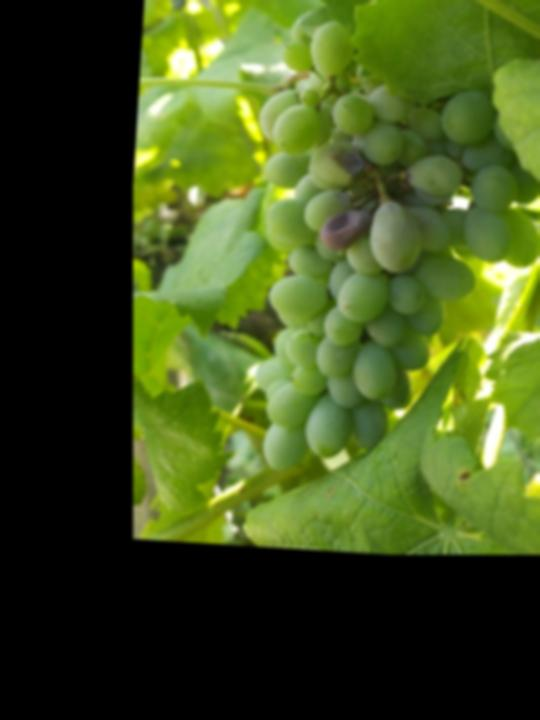grape: (235, 7, 540, 489)
